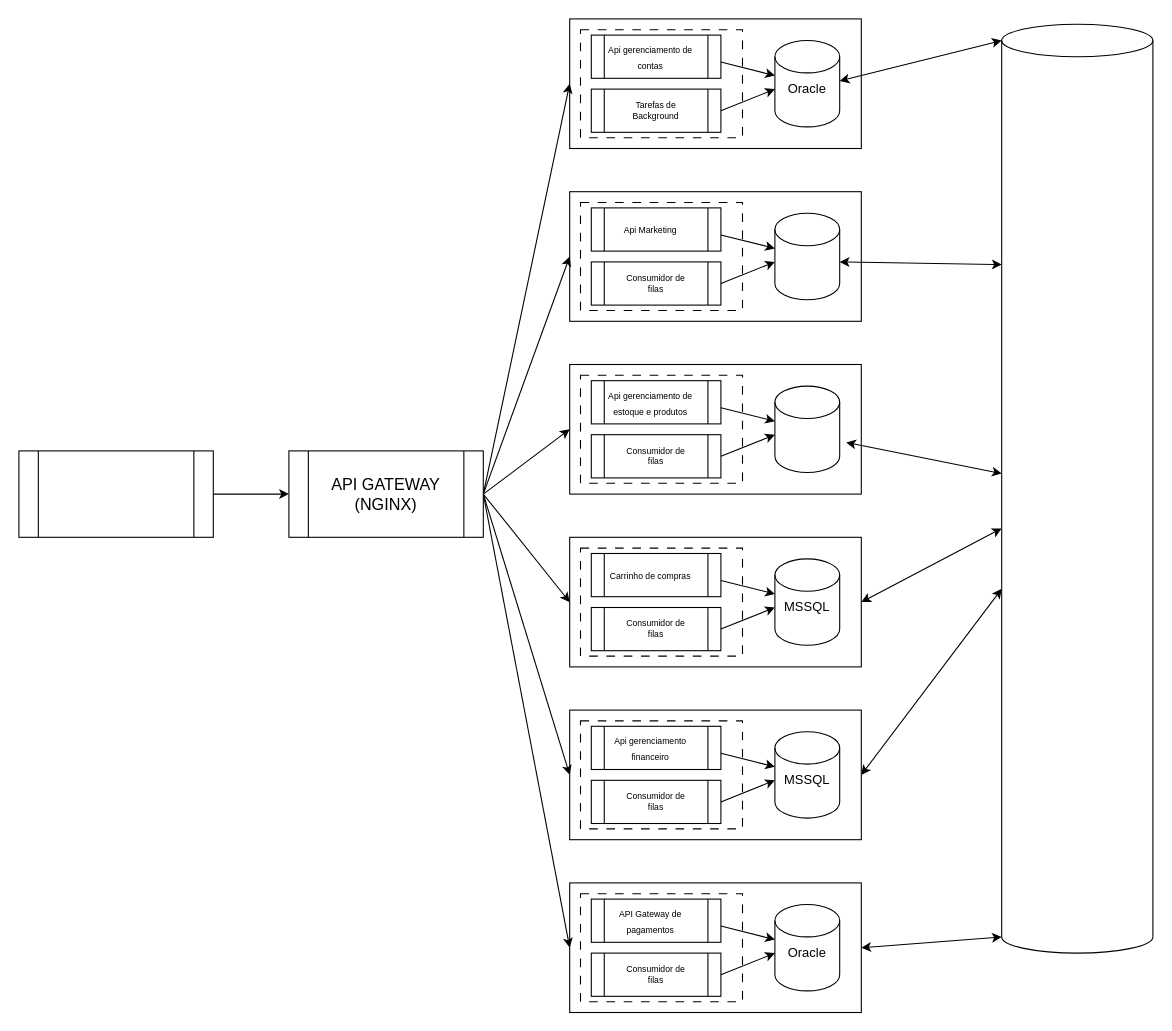
Image size: 1172x1031. Some labels were removed from this diagram. Here are the shapes that lost their labels. From the top down, the centre of each, then its label:
At point 807,256: "SqLite".
At point 807,429: "PostGreeSQL".
At point 115,493: "Front end (React)".
At point 1077,488: "Mensageria (RabbitMQ)".
